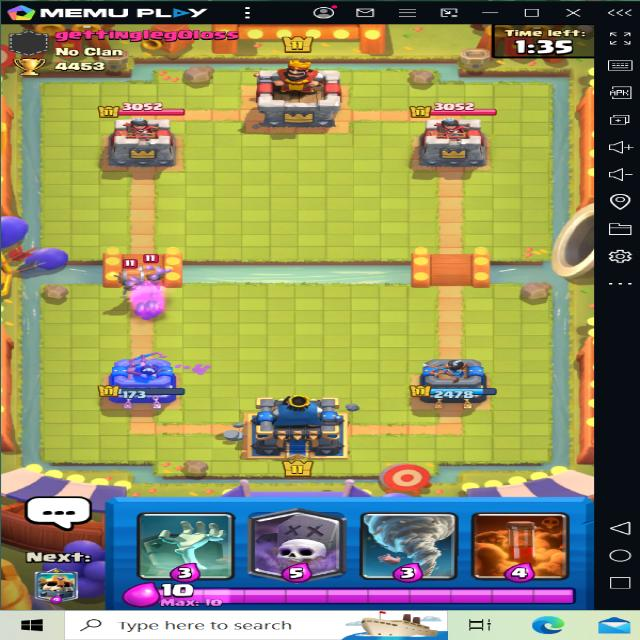wall-breaker: (136, 254, 186, 297), (106, 264, 146, 287)
